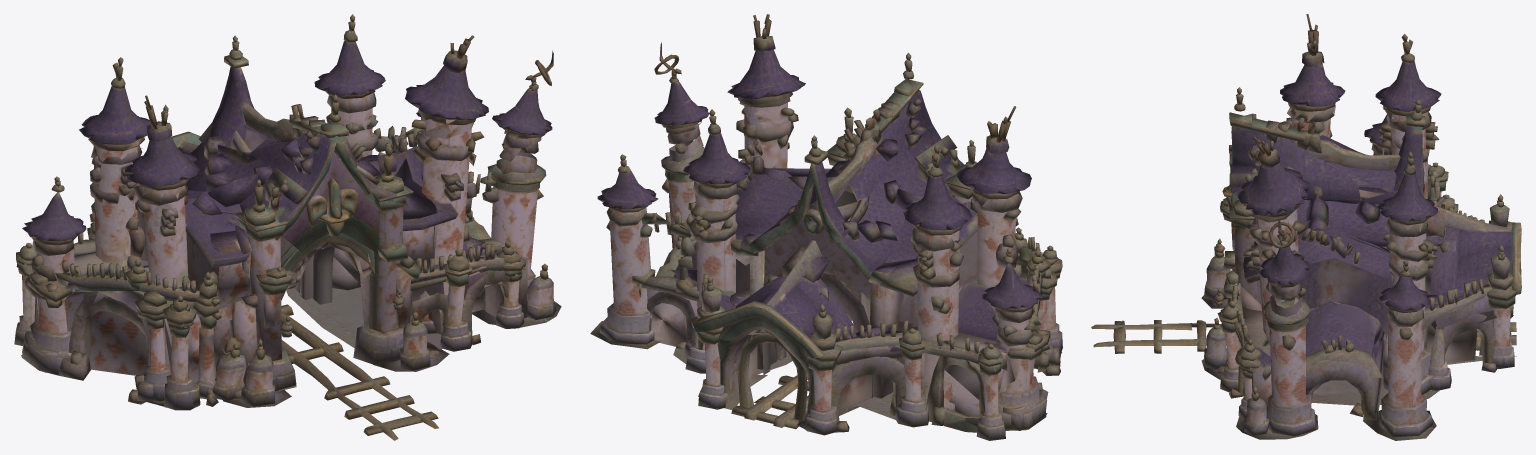
The model's file is castle.glb.
The picture shows the model from 3 angles, left to right: view 1: azimuth 30°, elevation 25°; view 2: azimuth 150°, elevation 25°; view 3: azimuth 270°, elevation 25°; orthographic projection. The views are drawn at different scales.
Parts seen in each view (by area): view 1: castle; view 2: castle; view 3: castle.
Boxes of the visible parts, x1,y1,x2,y2 form: castle: (14,14,561,440); castle: (590,14,1062,440); castle: (1091,14,1521,440).
Size of the model in its own units: 1 by 0.612 by 0.9036.
Materials: 1 (1 with a texture image).
